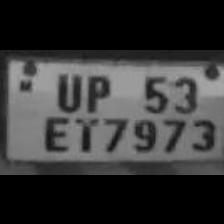3: (169, 71, 199, 111), (186, 113, 216, 151)
5: (138, 70, 170, 110)
7: (97, 112, 127, 152), (159, 112, 185, 152)
9: (127, 113, 157, 151)
E: (36, 112, 72, 152)
P: (78, 70, 114, 110)
T: (70, 113, 98, 151)
U: (50, 68, 84, 110)
